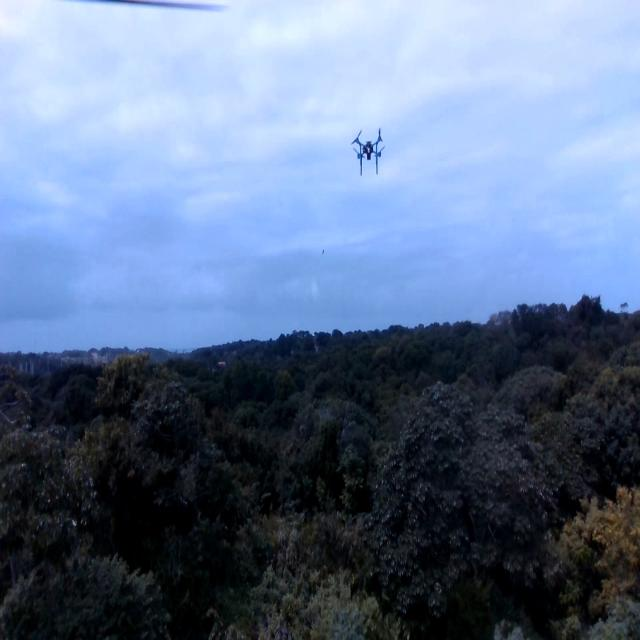-uav-: (347, 123, 391, 185)
